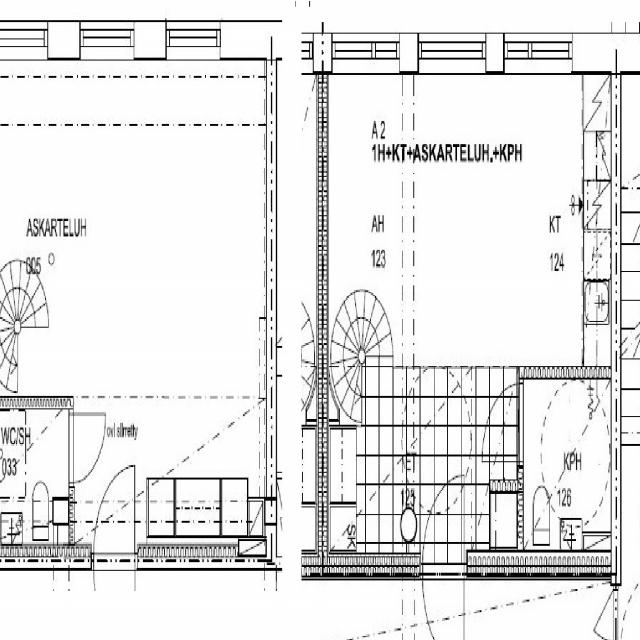door: (422, 464, 463, 580), (94, 456, 135, 568), (94, 544, 135, 640), (422, 551, 463, 640), (481, 383, 524, 462), (69, 414, 105, 482)
